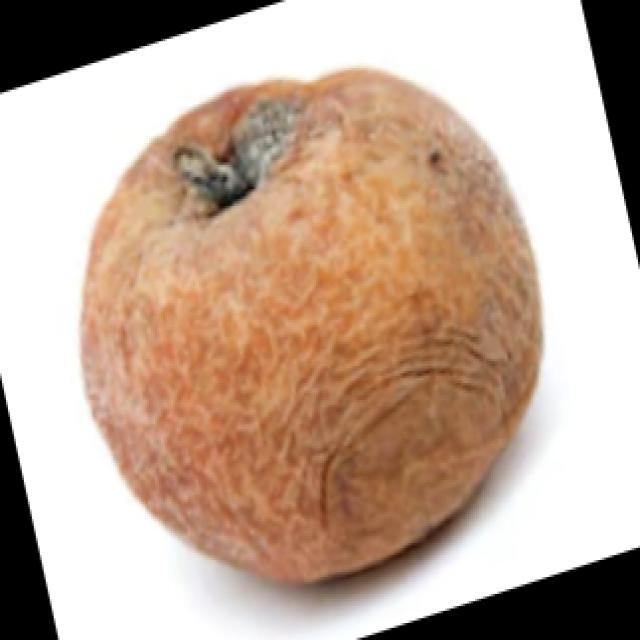Rotten: (66, 86, 552, 586)
